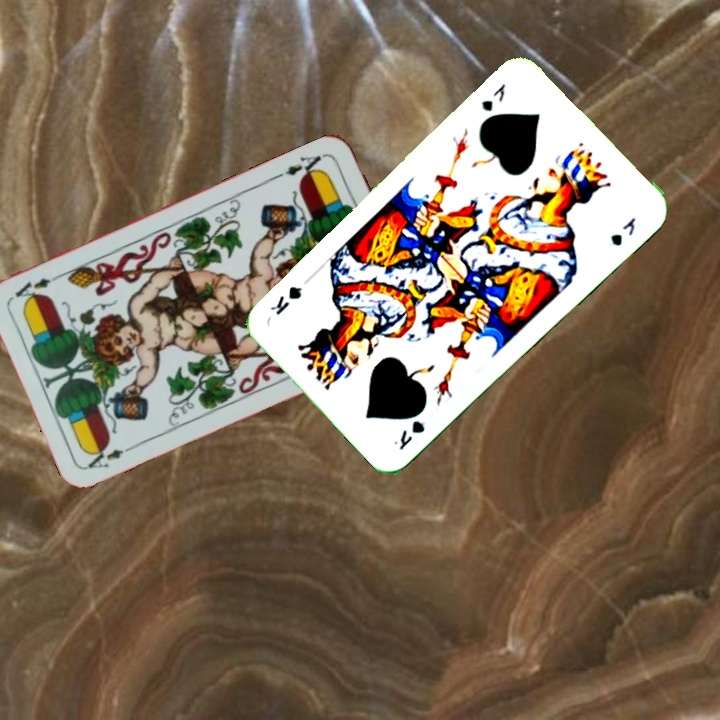EA: (84, 439, 139, 472), (281, 151, 326, 183)
GK: (389, 416, 428, 453), (477, 79, 509, 114)
